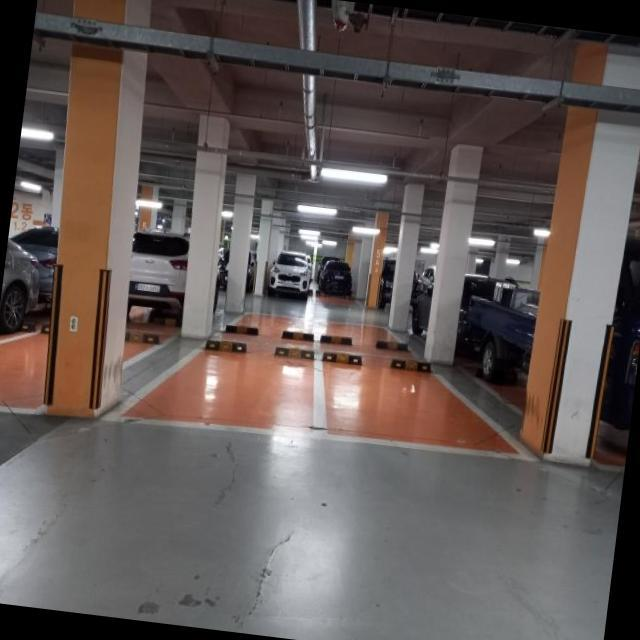empty: (105, 318, 332, 449), (305, 348, 504, 458)
